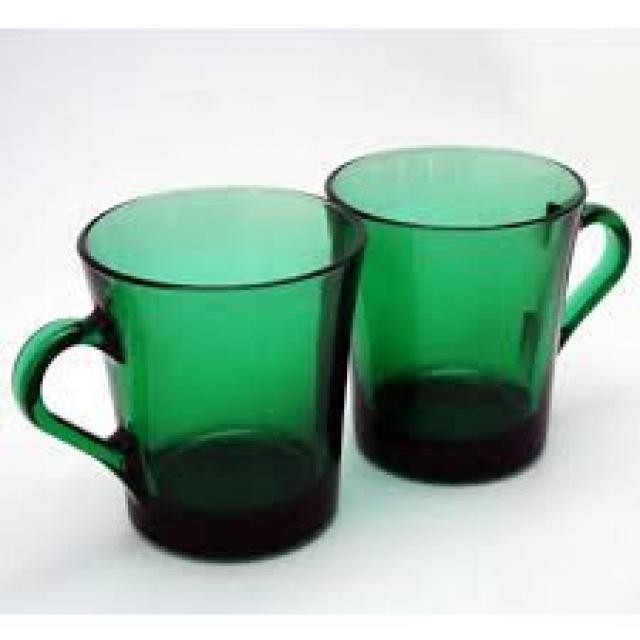Glass-Non-Biodegradable but Recyclable-: (8, 226, 365, 564), (82, 186, 365, 288)
